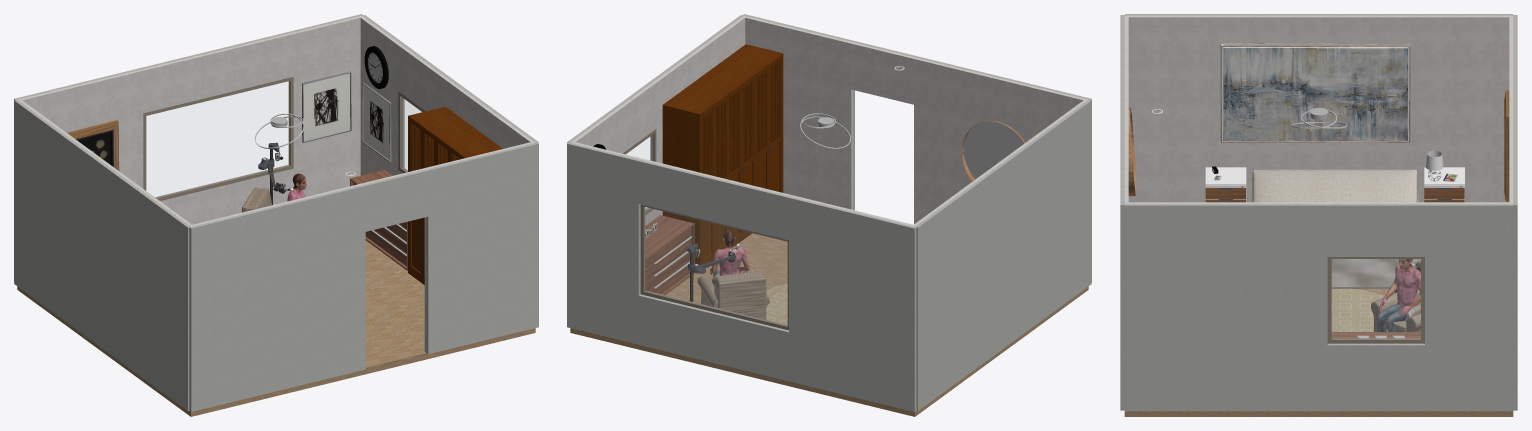
The picture shows the model from 3 angles, left to right: view 1: azimuth 30°, elevation 25°; view 2: azimuth 150°, elevation 25°; view 3: azimuth 270°, elevation 25°; orthographic projection. The views are drawn at different scales.
Parts seen in each view (by area): view 1: world (×14), glass (×2), room_geometry_bedroom__v0, frame (×2), P_1475bb54bce7585f.001, P_e22b2b68d7208148.001, P_a99e0b1c986b3148.001; view 2: world (×12), glass, P_1475bb54bce7585f.001, room_geometry_bedroom__v0, P_ba71c252d1d00a3e.001, frame, P_f71ccff79b6ab3a0.001, P_ded575aaa475c7a0.001, P_e22b2b68d7208148.001, P_a99e0b1c986b3148.001, P_200d05c50dc21da0.001, bedroom_rug_0 (+1 smaller); view 3: world (×16), glass, room_geometry_bedroom__v0, bedroom_rug_0, frame, P_524e941e6bf7cf74.001 (×2), P_f74e8f3013d602d8.001 (×2), base_link.
Boxes of the visible parts, bbox=[...] form: world (×14): bbox=[14, 14, 538, 411]; glass (×2): bbox=[146, 81, 420, 197]; room_geometry_bedroom__v0: bbox=[17, 240, 535, 416]; frame (×2): bbox=[143, 77, 425, 200]; P_1475bb54bce7585f.001: bbox=[408, 106, 502, 284]; P_e22b2b68d7208148.001: bbox=[408, 118, 422, 277]; P_a99e0b1c986b3148.001: bbox=[422, 127, 435, 279]; world (×12): bbox=[567, 14, 1091, 411]; glass: bbox=[644, 207, 787, 325]; P_1475bb54bce7585f.001: bbox=[662, 44, 783, 265]; room_geometry_bedroom__v0: bbox=[570, 233, 1088, 416]; P_ba71c252d1d00a3e.001: bbox=[769, 55, 782, 192]; frame: bbox=[640, 204, 788, 330]; P_f71ccff79b6ab3a0.001: bbox=[755, 65, 768, 189]; P_ded575aaa475c7a0.001: bbox=[741, 75, 755, 235]; P_e22b2b68d7208148.001: bbox=[700, 105, 714, 264]; P_a99e0b1c986b3148.001: bbox=[714, 95, 727, 252]; P_200d05c50dc21da0.001: bbox=[728, 85, 741, 241]; bedroom_rug_0: bbox=[766, 283, 787, 324]; world (×16): bbox=[1120, 14, 1517, 411]; glass: bbox=[1332, 259, 1420, 338]; room_geometry_bedroom__v0: bbox=[1124, 259, 1513, 416]; bedroom_rug_0: bbox=[1331, 288, 1384, 331]; frame: bbox=[1327, 257, 1424, 343]; P_524e941e6bf7cf74.001 (×2): bbox=[1205, 167, 1464, 185]; P_f74e8f3013d602d8.001 (×2): bbox=[1205, 188, 1464, 198]; base_link: bbox=[1395, 264, 1420, 307].
Bounding box in the file's own units: 5.6 × 2.9 × 4.9.
Materials: 53 (24 with a texture image).
